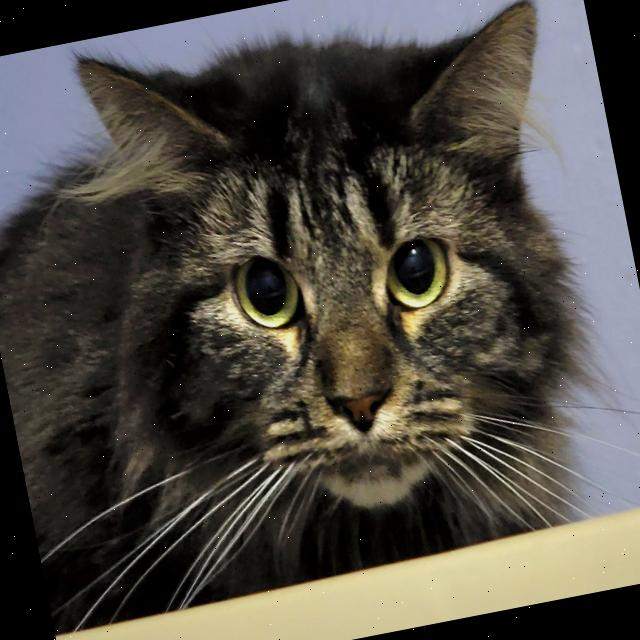maine_coon_cat: (60, 0, 640, 591)
